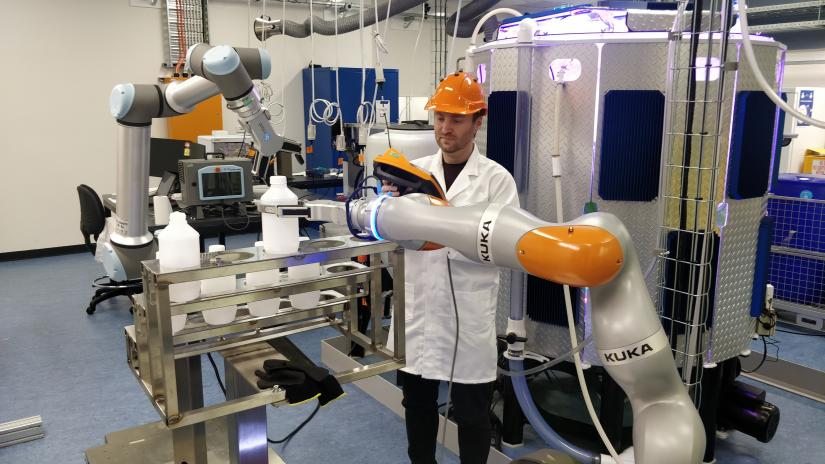person: (380, 71, 525, 464)
robot: (253, 193, 708, 464), (98, 41, 307, 287)
